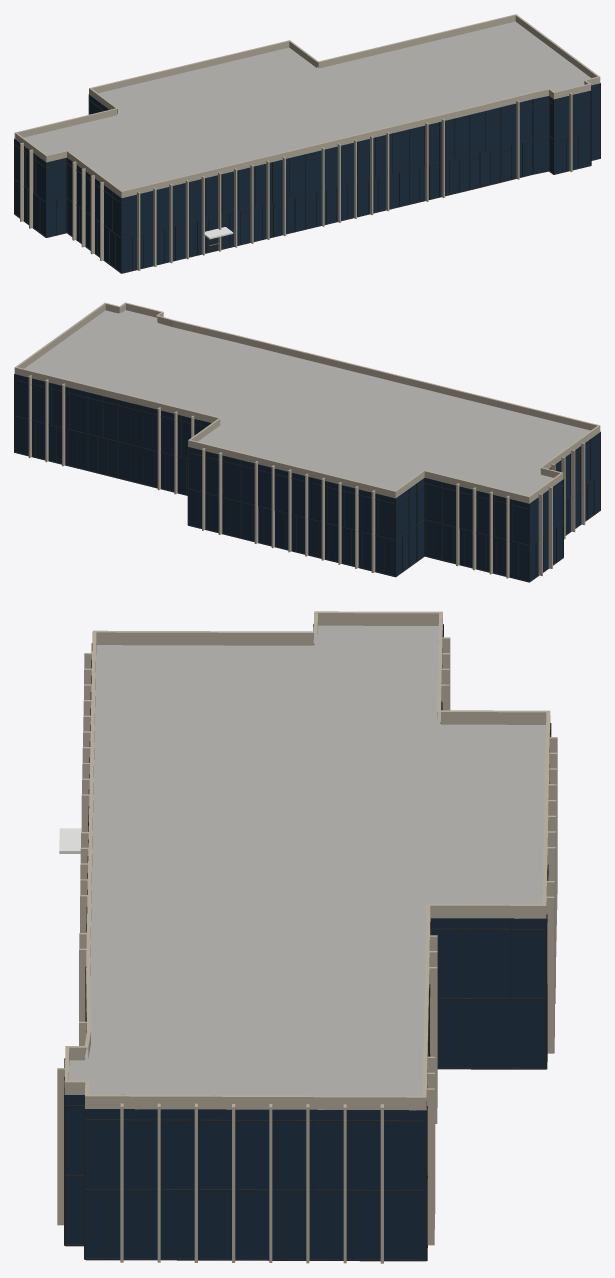
The model's file is founders_north.glb.
3 renders of one model, top to bottom at view 1: azimuth 30°, elevation 25°; view 2: azimuth 150°, elevation 25°; view 3: azimuth 270°, elevation 25°, orthographic. The views are drawn at different scales.
Visible parts, largest first — view 1: founders_north_Roof_Membrane, founders_north_Glass_darkBlue, founders_north_Wall_concrete, founders_north_Frame_Dark; view 2: founders_north_Roof_Membrane, founders_north_Glass_darkBlue, founders_north_Wall_concrete, founders_north_Frame_Dark; view 3: founders_north_Roof_Membrane, founders_north_Glass_darkBlue, founders_north_Wall_concrete, founders_north_Frame_Dark.
Part boxes in pixels (x1,y1,x2,y2): founders_north_Roof_Membrane: [24, 21, 590, 190]; founders_north_Glass_darkBlue: [15, 83, 599, 272]; founders_north_Wall_concrete: [14, 14, 600, 270]; founders_north_Frame_Dark: [14, 67, 600, 273]; founders_north_Roof_Membrane: [24, 310, 590, 495]; founders_north_Glass_darkBlue: [15, 374, 599, 581]; founders_north_Wall_concrete: [14, 302, 600, 578]; founders_north_Frame_Dark: [14, 312, 600, 582]; founders_north_Roof_Membrane: [68, 625, 550, 1110]; founders_north_Glass_darkBlue: [65, 918, 545, 1259]; founders_north_Wall_concrete: [57, 611, 557, 1263]; founders_north_Frame_Dark: [64, 624, 551, 1261].
Bounding box in the file's own units: 75.21 × 11.64 × 32.3.
